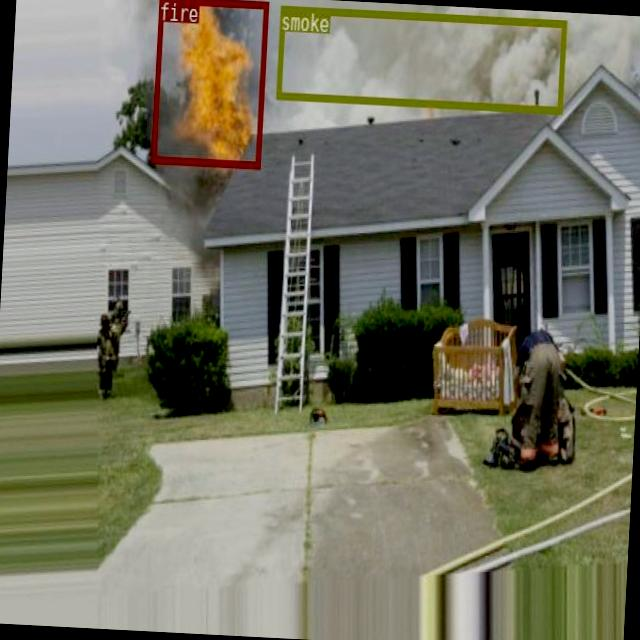fire: (150, 0, 268, 167)
smoke: (275, 5, 567, 114)
